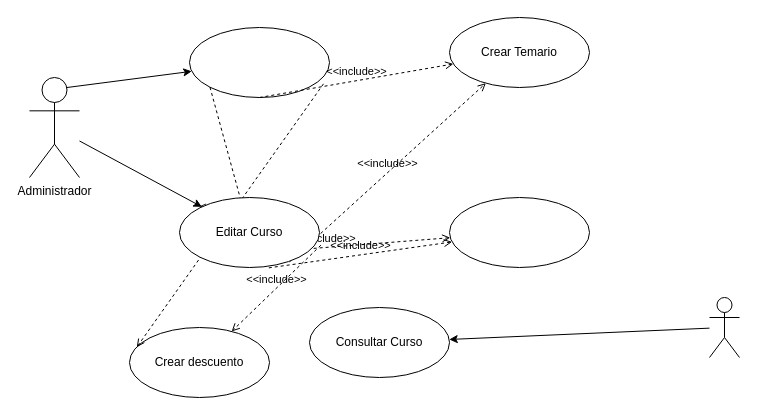
This 762x415 diagram has some shape labels left out. The centre of each missing label's shape, as x and y in pixels:
"Crear Curso" belongs at [259,62].
"Editar Temario" belongs at [519,232].
"Usuario" belongs at [724,327].
